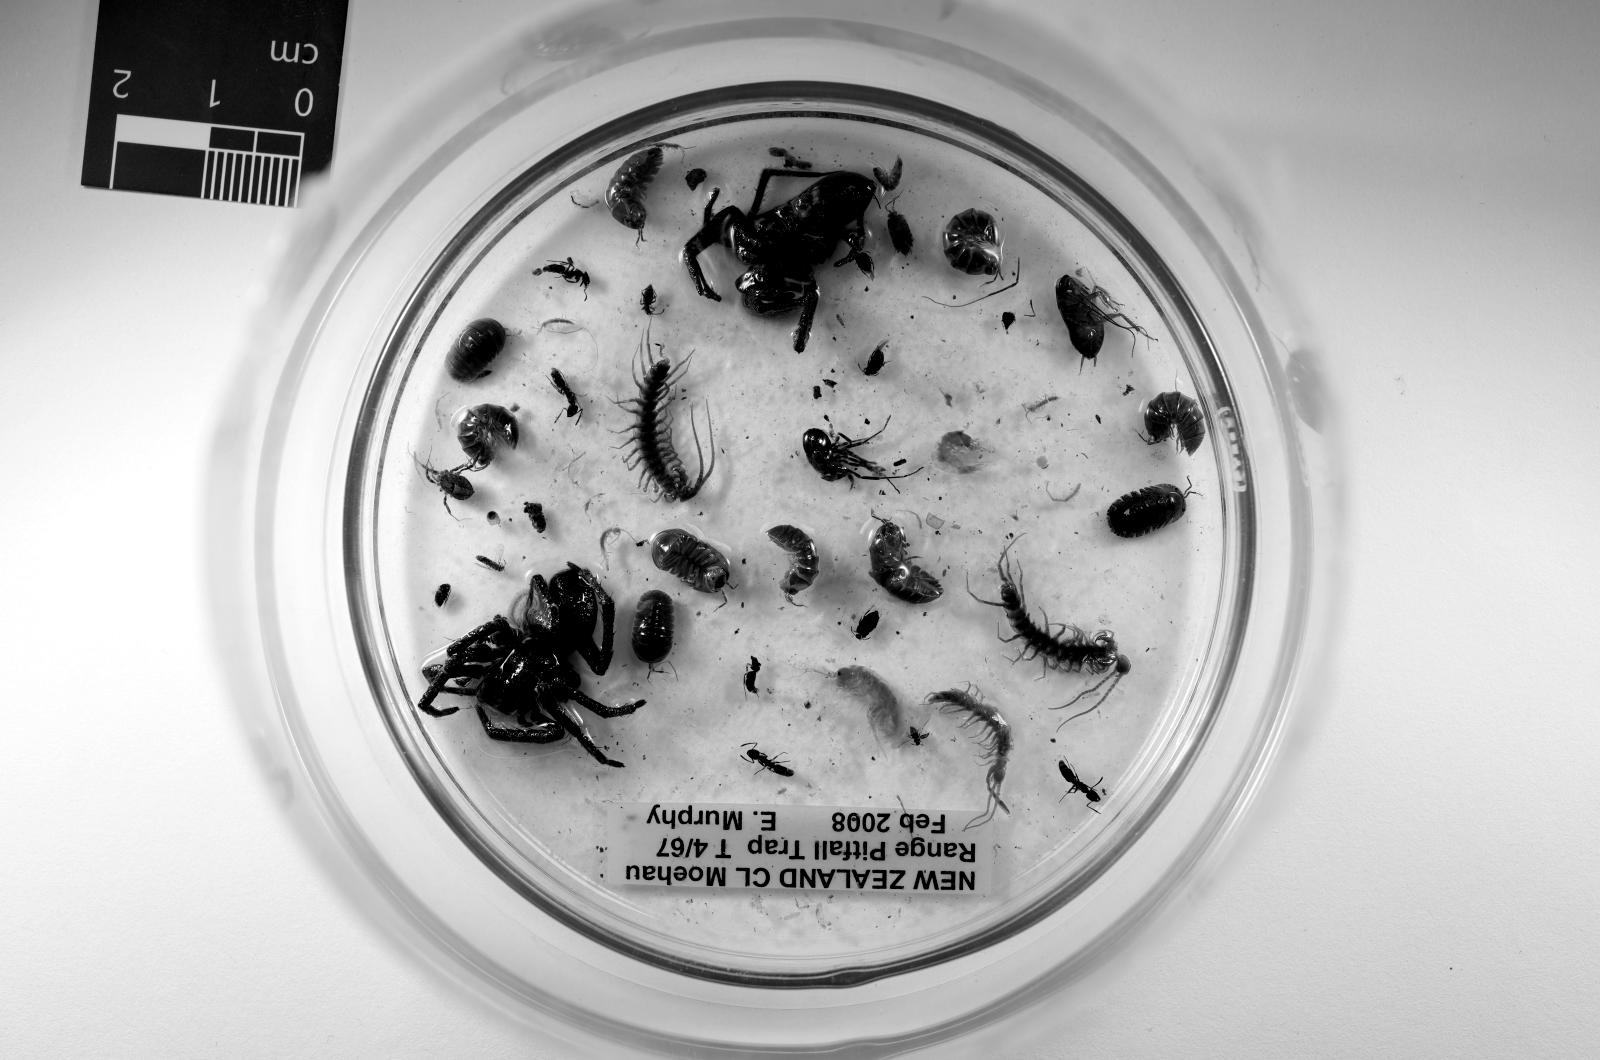amphipoda: (825, 665, 906, 749), (934, 432, 982, 476)
araneae: (419, 562, 643, 767), (685, 168, 881, 351)
blattodea: (1056, 270, 1147, 367)
chilopoda: (984, 547, 1132, 715), (616, 332, 715, 503), (925, 684, 1012, 826), (600, 528, 626, 568), (1022, 394, 1060, 413), (540, 317, 582, 332)
coleoptera: (862, 342, 887, 376), (856, 612, 879, 640), (641, 286, 656, 317), (856, 252, 872, 277), (909, 726, 928, 745), (434, 584, 451, 606)
formicidae: (531, 258, 590, 302), (1060, 761, 1100, 804), (744, 742, 793, 776), (550, 369, 582, 419)
hymenoptera: (475, 556, 503, 571)
isopoda: (869, 522, 944, 602), (607, 146, 662, 243), (650, 528, 731, 593), (1106, 485, 1187, 537), (443, 317, 506, 382), (456, 403, 519, 468), (944, 208, 1000, 277), (1144, 392, 1206, 453), (769, 525, 818, 602), (631, 590, 675, 665), (887, 208, 913, 254), (872, 159, 903, 189)
opiliones: (803, 428, 890, 487), (415, 459, 475, 506)
